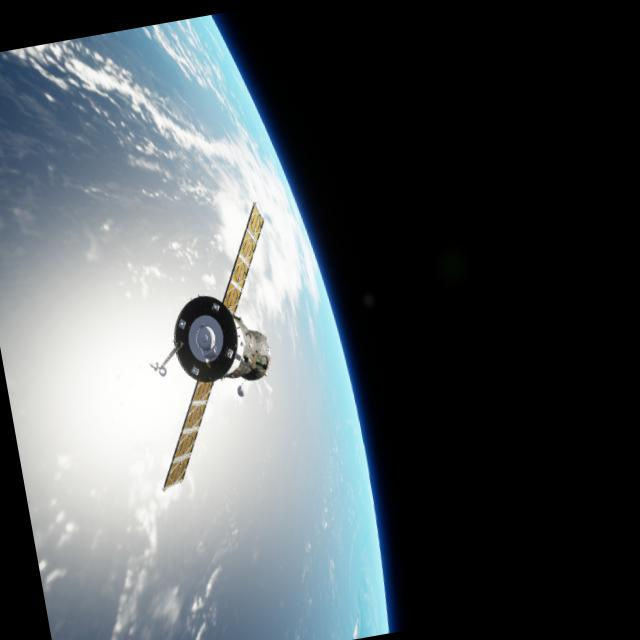Satellites revolving around earth: (114, 199, 309, 493)
